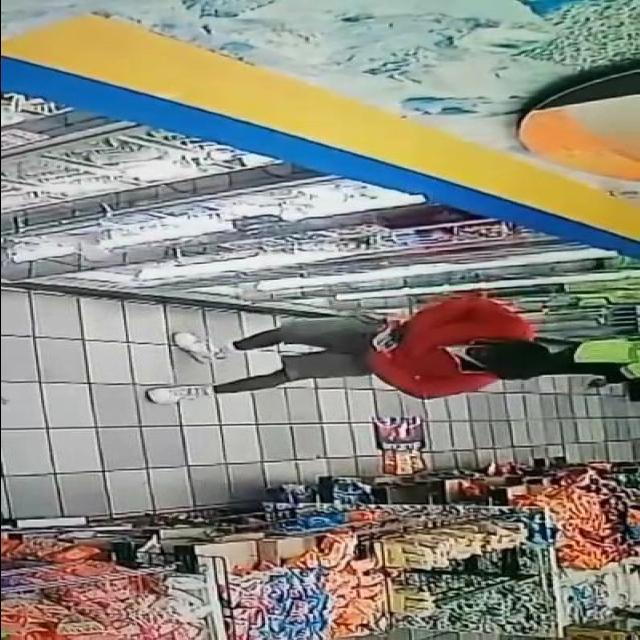Shoplifting: (91, 288, 575, 419)
